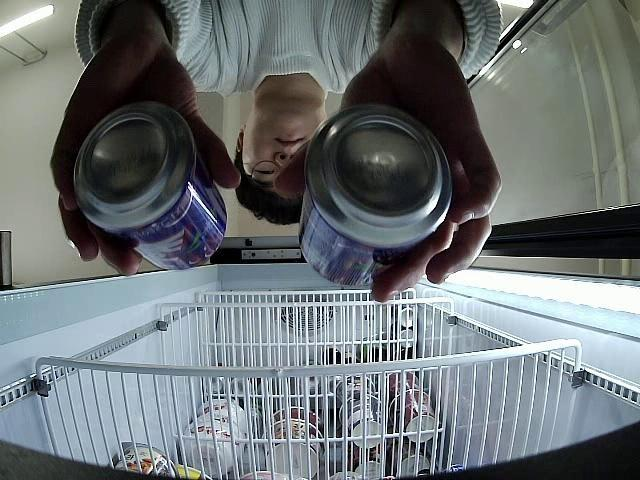14_welchsGrape: (297, 102, 451, 286), (71, 100, 227, 269)
